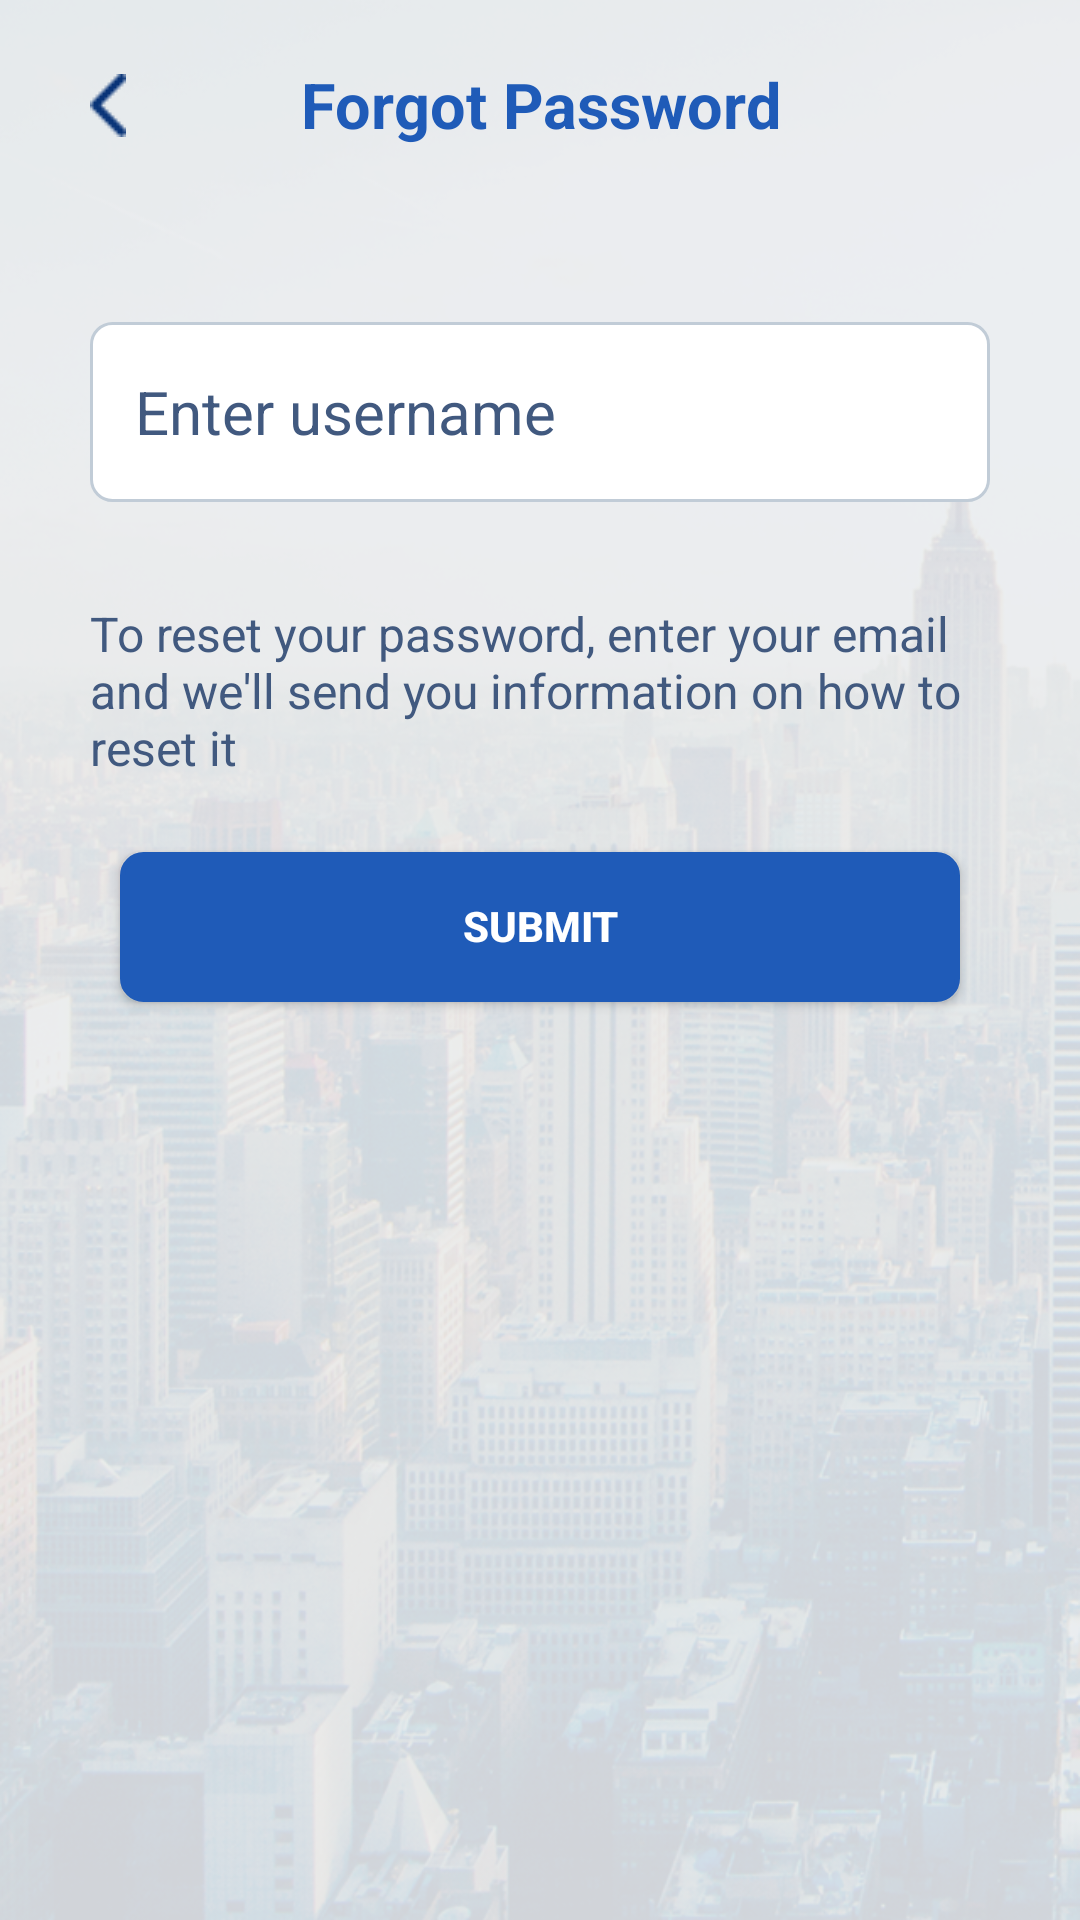

Where icons sit on this 1080px x 1920px app screen, as (x1, y1, x2, y2):
back: (90, 74, 126, 137)
